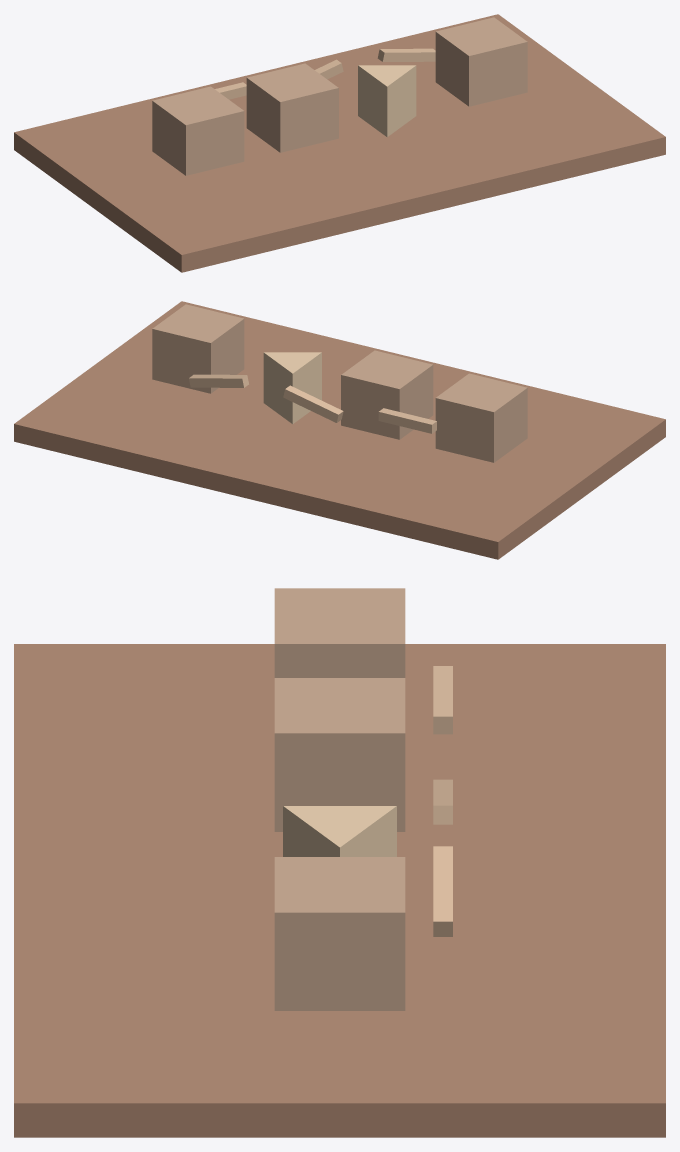
The model's file is hero.glb.
The picture shows the model from 3 angles, top to bottom: view 1: azimuth 30°, elevation 25°; view 2: azimuth 150°, elevation 25°; view 3: azimuth 270°, elevation 25°; orthographic projection. The views are drawn at different scales.
Parts seen in each view (by area): view 1: substrate_concentrating_solar_power_mirror, 01_source_(emitter__external_illuminator), 02_transport_medium_(free-space__fiber__tissue), 04_thermal_path_and_safety_interlocks, 03_receiver__conversion_element, flow_3_->_4; view 2: substrate_concentrating_solar_power_mirror, 01_source_(emitter__external_illuminator), 04_thermal_path_and_safety_interlocks, 02_transport_medium_(free-space__fiber__tissue), 03_receiver__conversion_element, flow_2_->_3, flow_1_->_2, flow_3_->_4; view 3: substrate_concentrating_solar_power_mirror, 04_thermal_path_and_safety_interlocks, 02_transport_medium_(free-space__fiber__tissue), 01_source_(emitter__external_illuminator), 03_receiver__conversion_element, flow_3_->_4, flow_1_->_2, flow_2_->_3.
Part boxes in pixels (x1=…): substrate_concentrating_solar_power_mirror: x1=14, y1=14, x2=665, y2=272; 01_source_(emitter__external_illuminator): x1=152, y1=86, x2=244, y2=175; 02_transport_medium_(free-space__fiber__tissue): x1=246, y1=63, x2=338, y2=152; 04_thermal_path_and_safety_interlocks: x1=435, y1=17, x2=527, y2=106; 03_receiver__conversion_element: x1=358, y1=65, x2=416, y2=137; flow_3_->_4: x1=377, y1=48, x2=435, y2=61; substrate_concentrating_solar_power_mirror: x1=14, y1=301, x2=665, y2=559; 01_source_(emitter__external_illuminator): x1=435, y1=373, x2=527, y2=462; 04_thermal_path_and_safety_interlocks: x1=152, y1=304, x2=244, y2=393; 02_transport_medium_(free-space__fiber__tissue): x1=341, y1=350, x2=433, y2=439; 03_receiver__conversion_element: x1=263, y1=352, x2=321, y2=424; flow_2_->_3: x1=283, y1=385, x2=343, y2=422; flow_1_->_2: x1=378, y1=408, x2=436, y2=433; flow_3_->_4: x1=189, y1=374, x2=248, y2=387; substrate_concentrating_solar_power_mirror: x1=14, y1=644, x2=665, y2=1137; 04_thermal_path_and_safety_interlocks: x1=274, y1=857, x2=405, y2=1010; 02_transport_medium_(free-space__fiber__tissue): x1=274, y1=678, x2=405, y2=831; 01_source_(emitter__external_illuminator): x1=274, y1=588, x2=405, y2=677; 03_receiver__conversion_element: x1=283, y1=806, x2=396, y2=856; flow_3_->_4: x1=433, y1=846, x2=452, y2=936; flow_1_->_2: x1=433, y1=666, x2=452, y2=734; flow_2_->_3: x1=433, y1=779, x2=452, y2=824.
Size of the model in its own units: 5 by 0.8 by 3.
